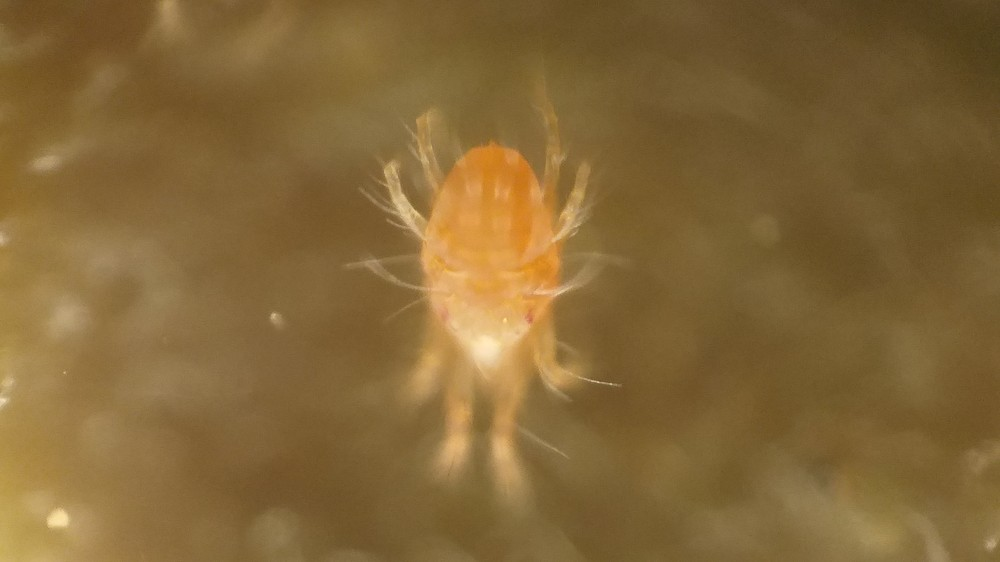Aracnido Rojo: (339, 76, 632, 500)
